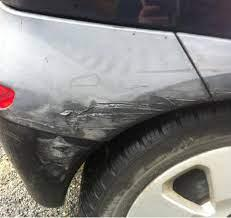rear-bumper-dent: (0, 12, 210, 207)
